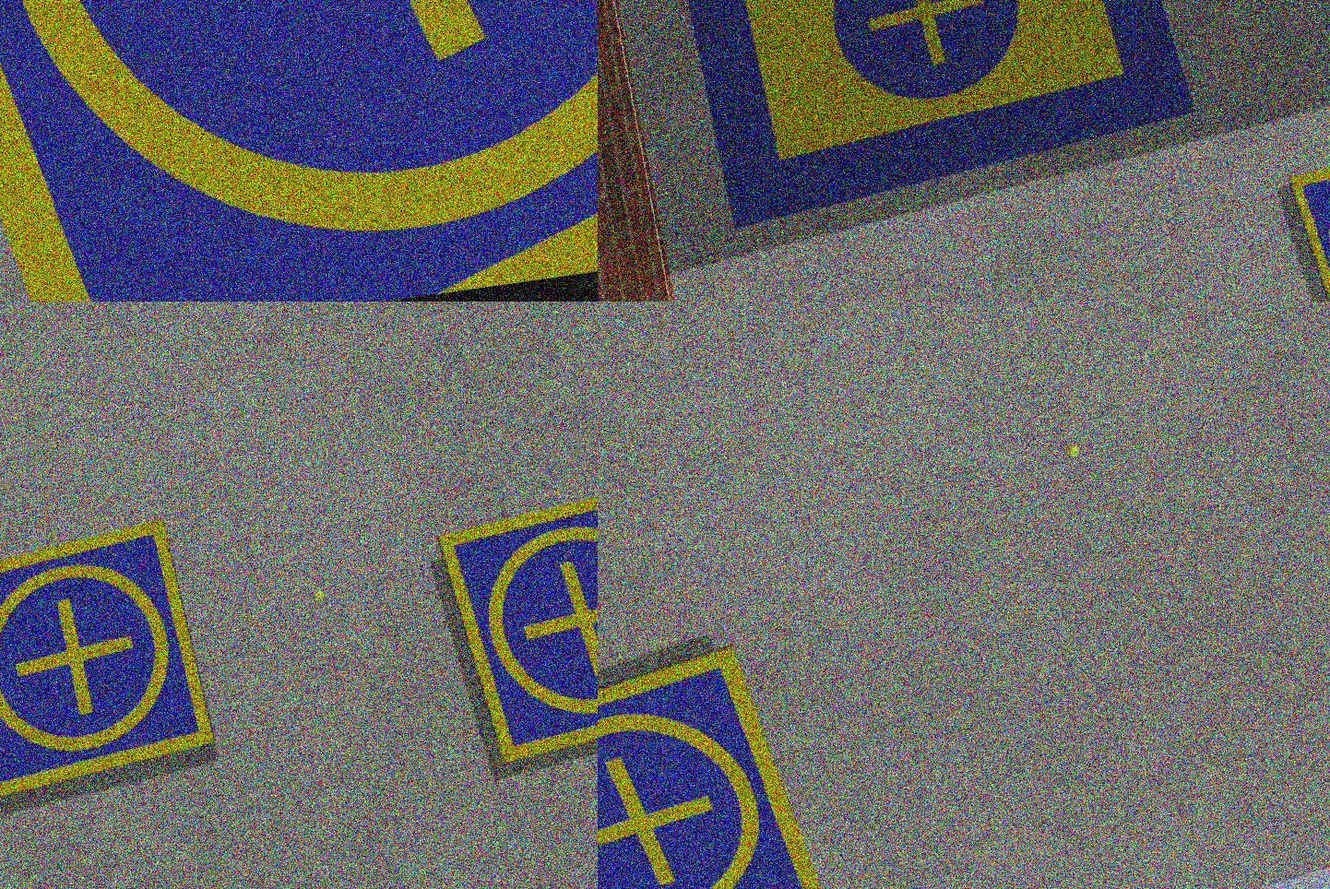large_base: (665, 1, 1203, 234)
small_base: (1, 1, 598, 302), (1, 516, 221, 808), (598, 637, 830, 889), (433, 479, 598, 772)
